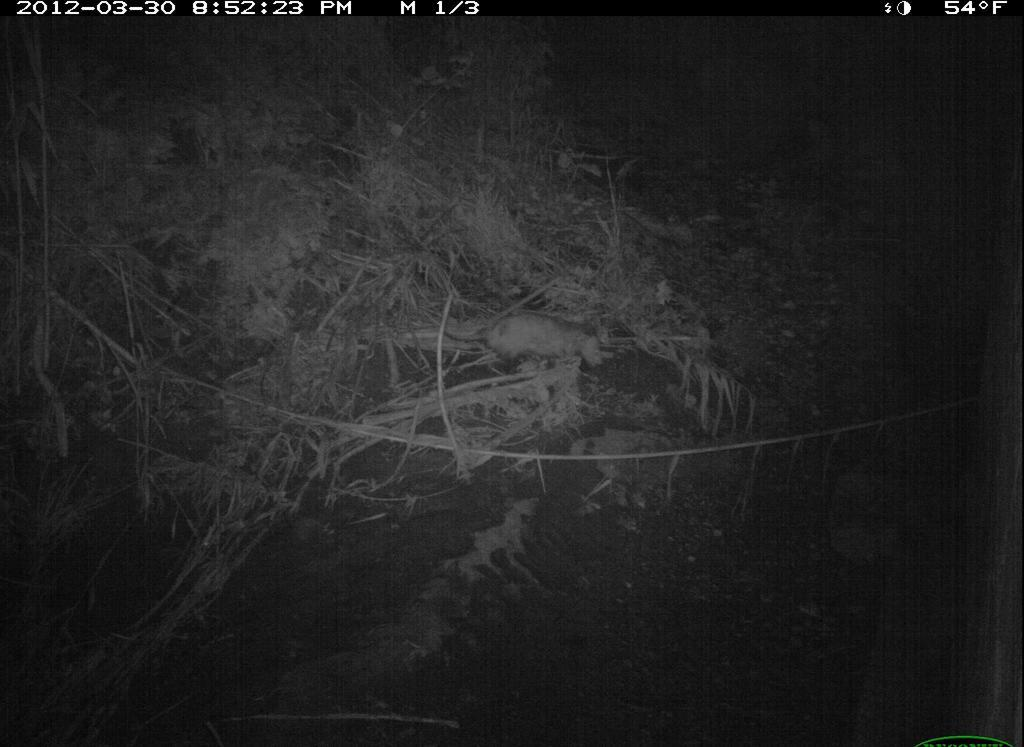opossum: (442, 296, 617, 383)
